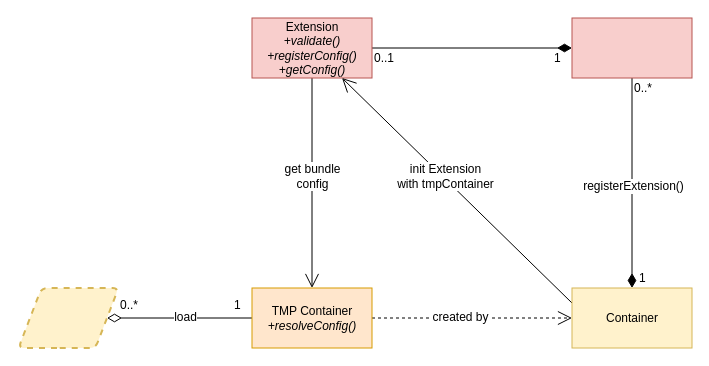
Image size: 709x366. Some labels were removed from this diagram. The centre of each missing label's shape, as x and y in pixels:
Bundle: (x=631, y=47)
Config from global file: (x=68, y=317)
